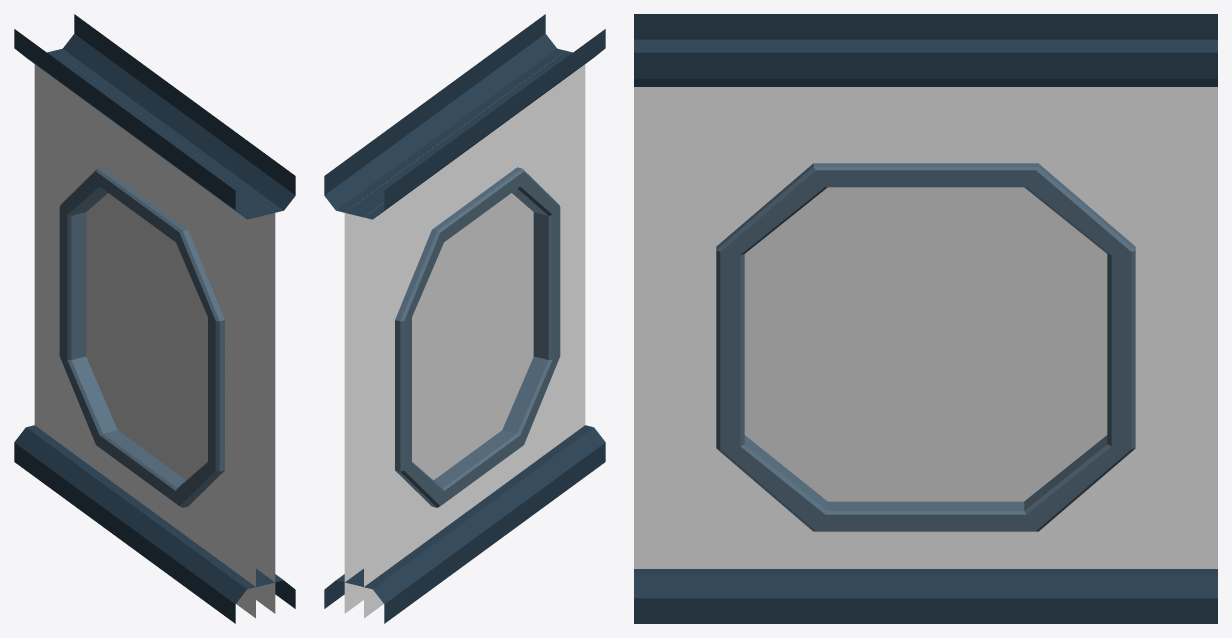
File: SM_GlassModule_Small.fbx
3 renders of one model, left to right at view 1: azimuth 30°, elevation 25°; view 2: azimuth 150°, elevation 25°; view 3: azimuth 270°, elevation 25°, orthographic. The views are drawn at different scales.
Visible parts, largest first — view 1: Cube.036; view 2: Cube.036; view 3: Cube.036.
Boxes of the visible parts, bbox=[...] form: Cube.036: bbox=[14, 14, 295, 623]; Cube.036: bbox=[324, 14, 605, 623]; Cube.036: bbox=[634, 14, 1217, 623].
Size of the model in its own units: 200 by 31.37 by 216.
